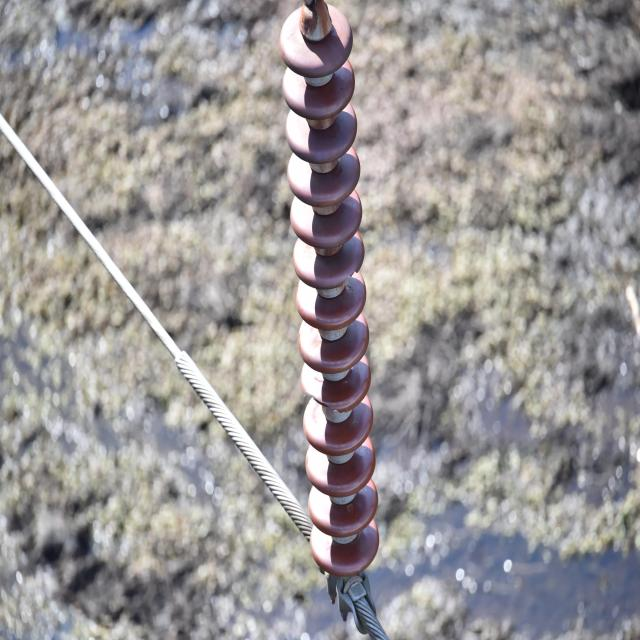broken: (301, 382, 342, 419), (335, 261, 364, 289)
insulator: (278, 8, 381, 574)
